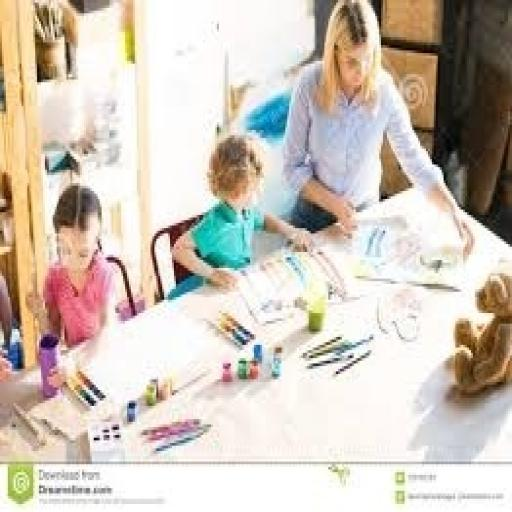sitting: (279, 0, 475, 260), (166, 130, 315, 300), (39, 180, 117, 350)
